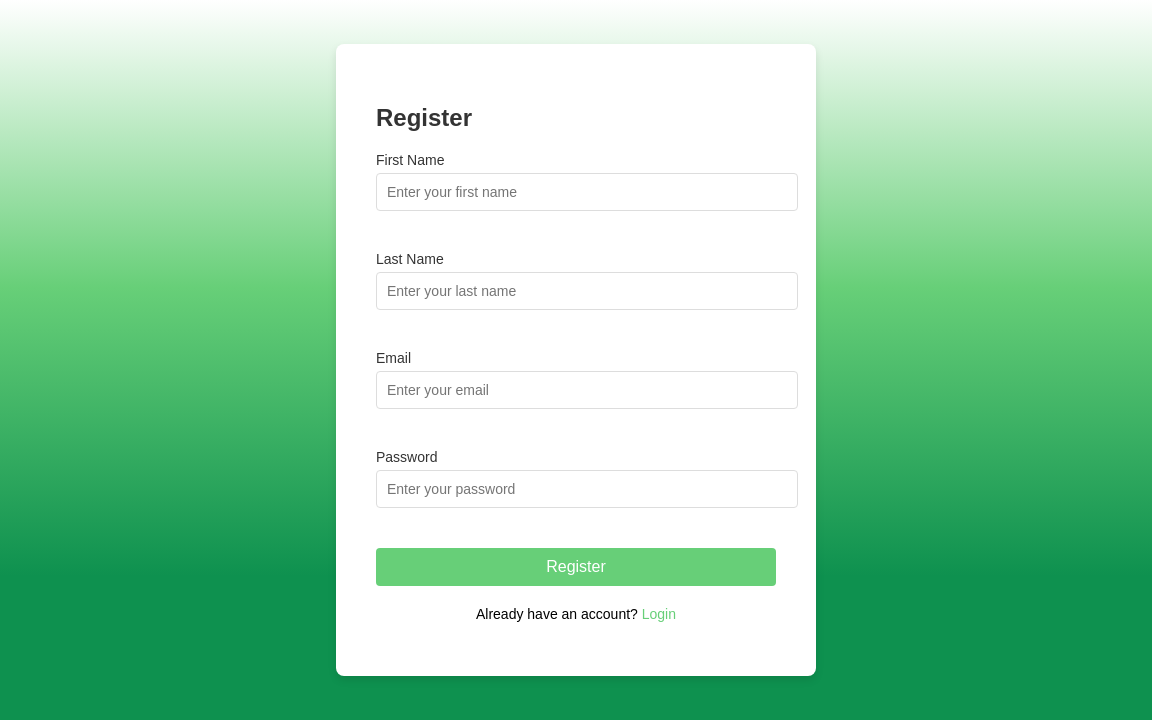
Test case: Register Component › shows error message on registration failure
This screenshot has width=1152, height=720.
Type "John" into the field labelled "First Name". click: (587, 192)
box: [376, 173, 798, 211]
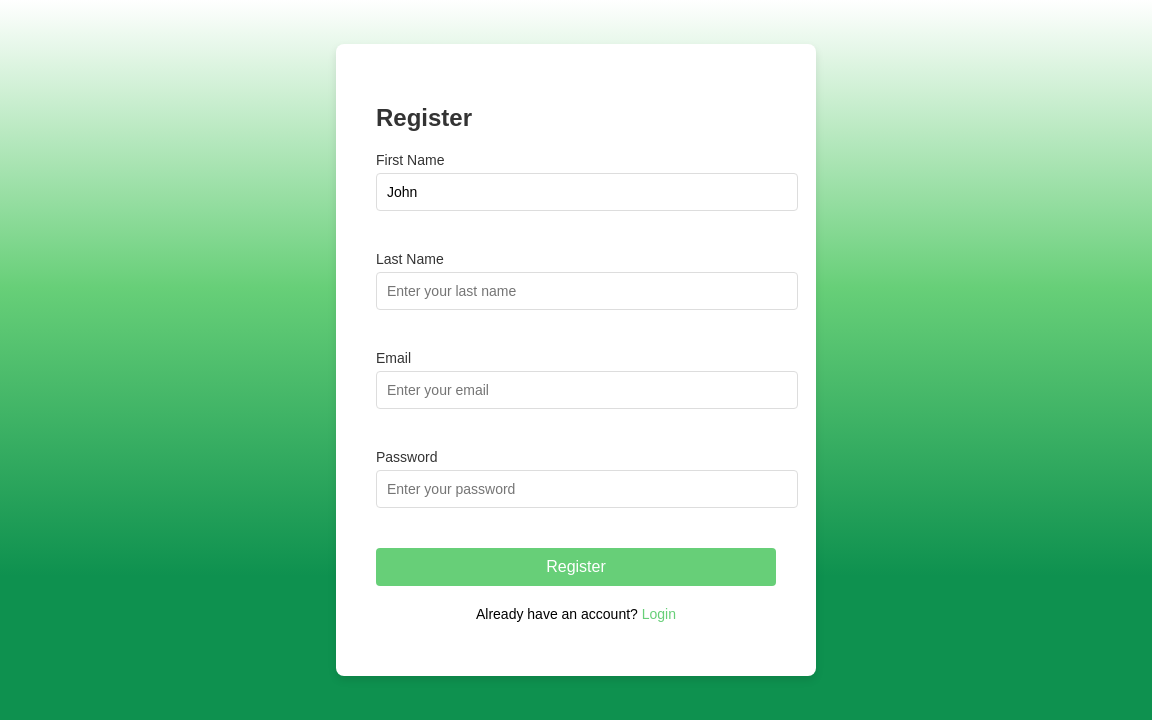
Type "Doe" into the field labelled "Last Name". click: (587, 291)
box: [376, 272, 798, 310]
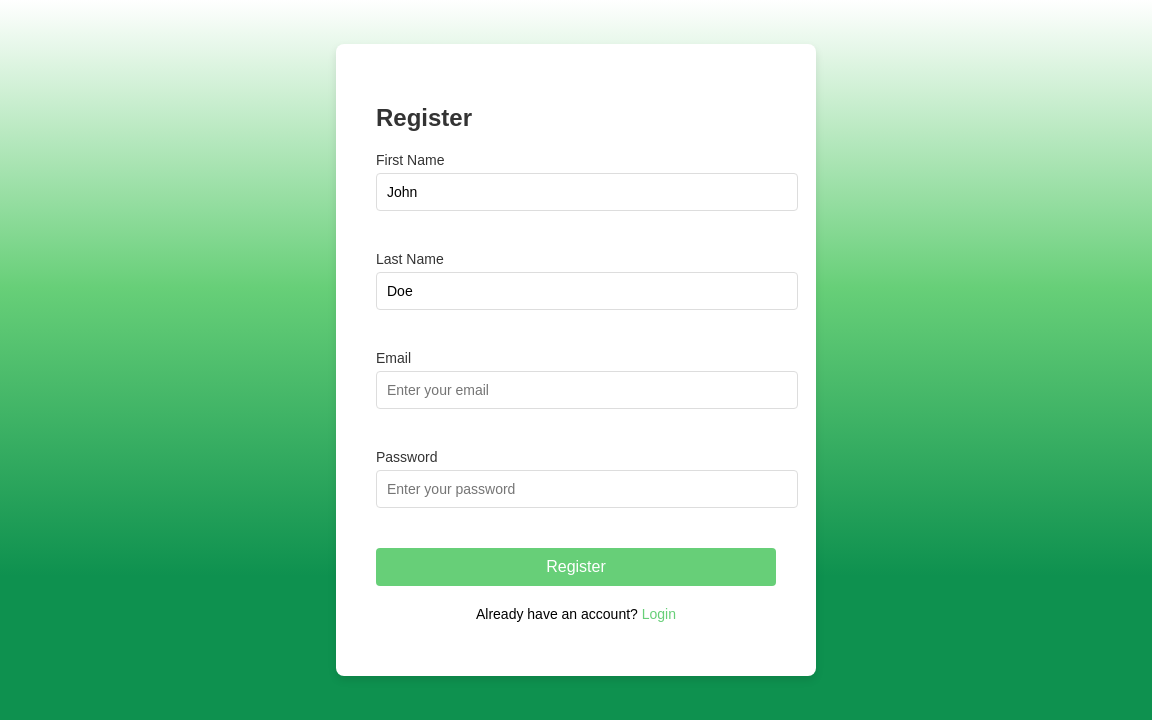
Type "john.doe@example.com" into the field labelled "Email". click: (587, 390)
box: [376, 371, 798, 409]
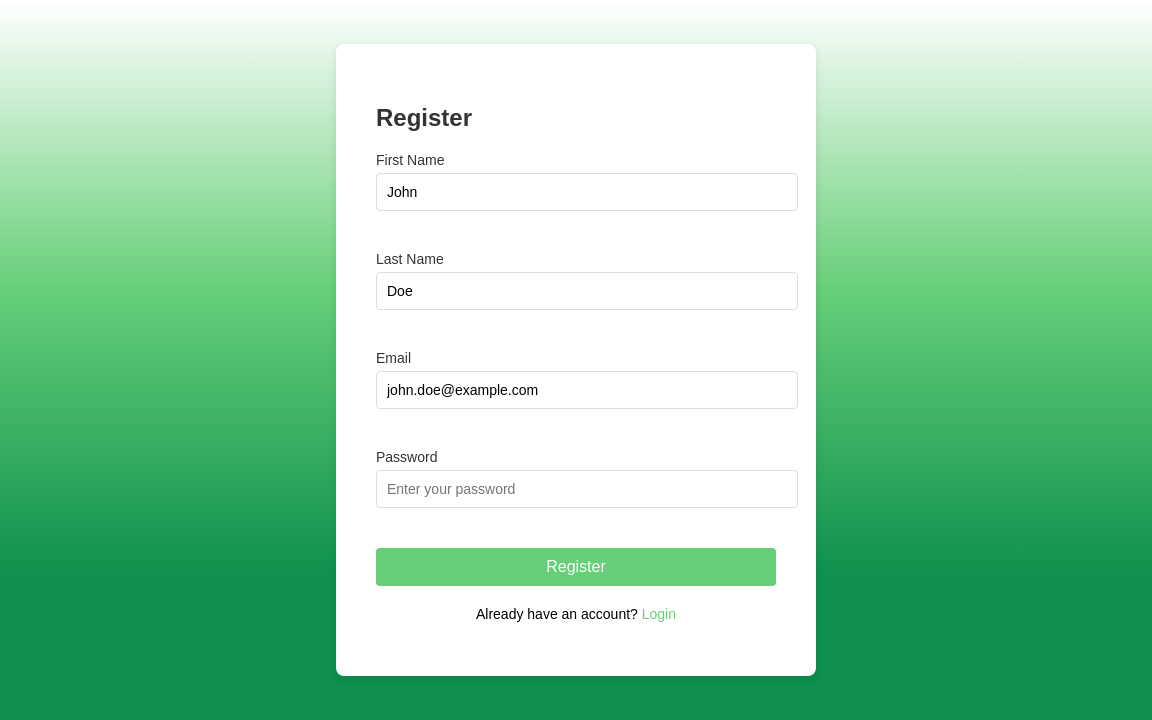
Type "Password1!" into the password field labelled "Password". click: (587, 489)
box: [376, 470, 798, 508]
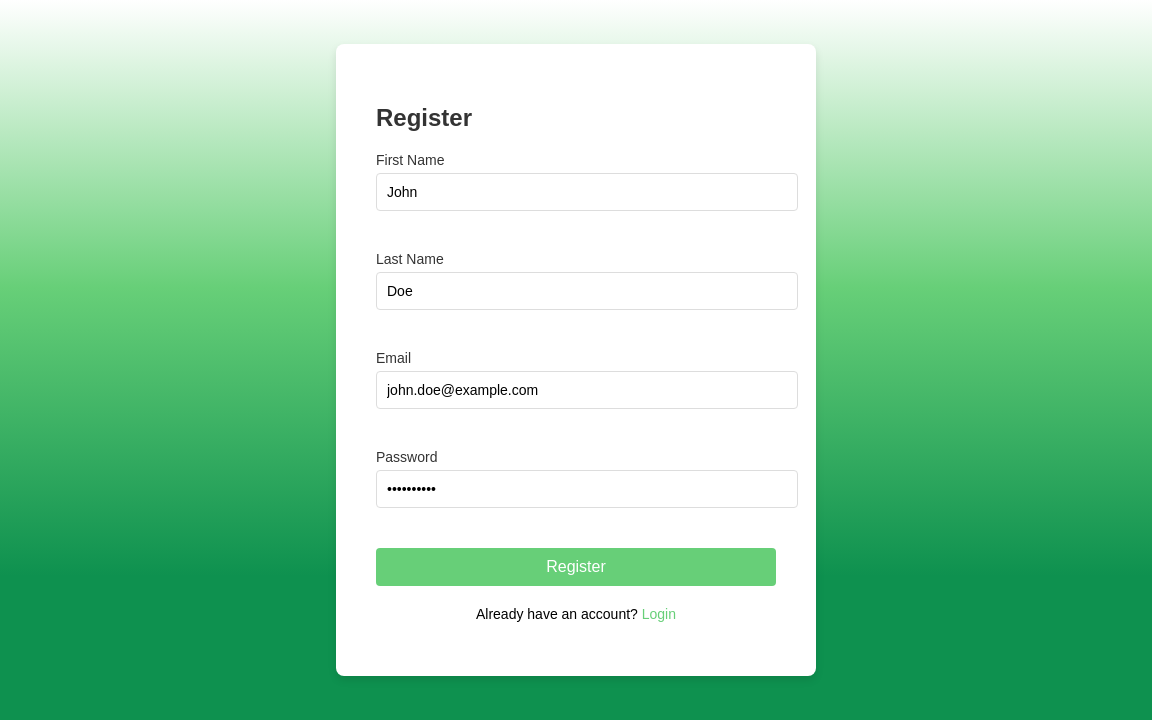
Click the button "Register". click: (576, 567)
box: [376, 548, 776, 586]
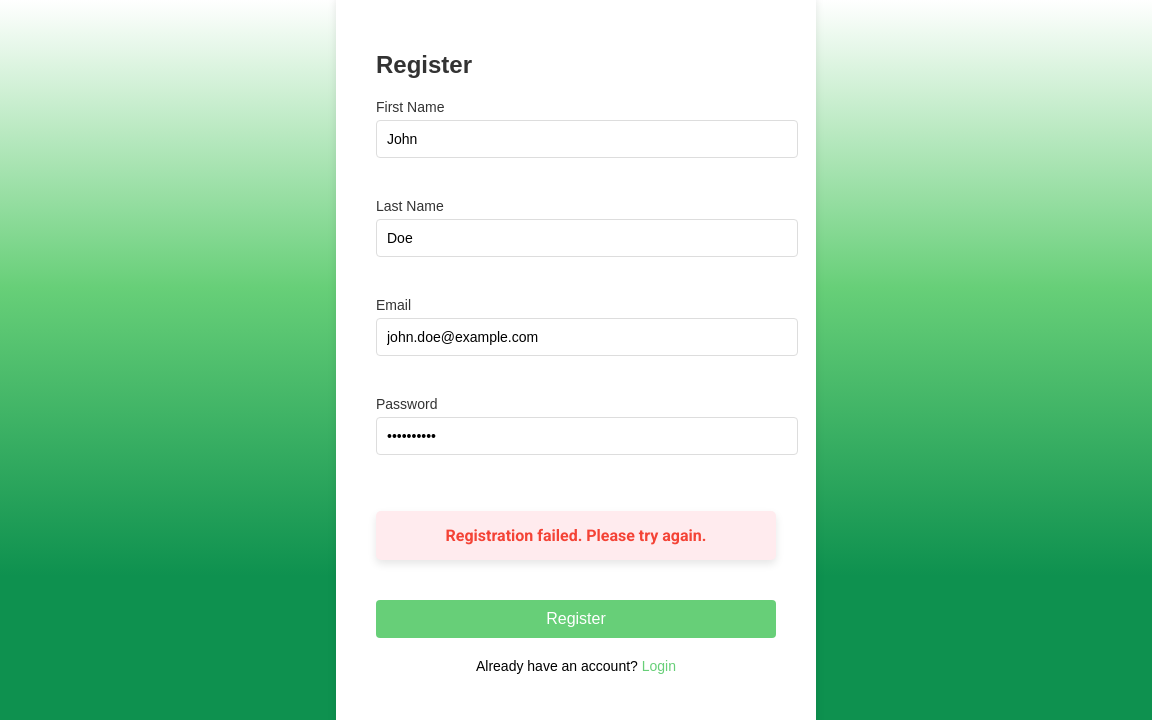
Expected: the text "Registration failed. Please try again." is shown, [376, 512, 776, 560]
